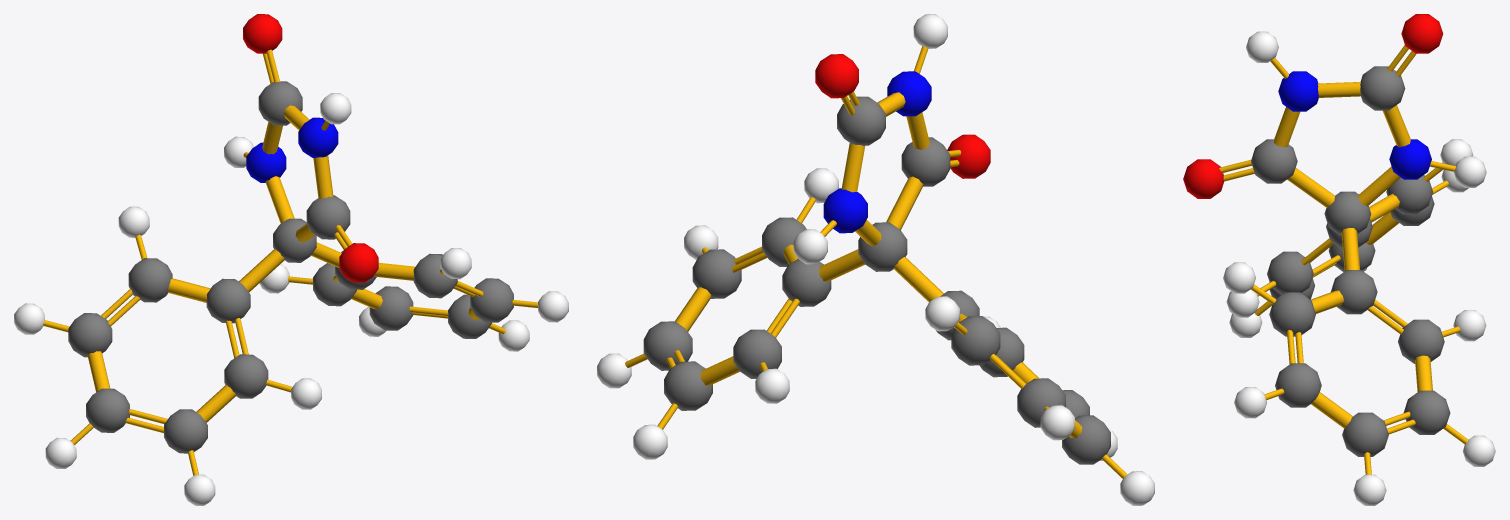
Rendered from phenytoin.glb.
The picture shows the model from 3 angles, left to right: view 1: azimuth 30°, elevation 25°; view 2: azimuth 150°, elevation 25°; view 3: azimuth 270°, elevation 25°; orthographic projection. The views are drawn at different scales.
Parts seen in each view (by area): view 1: node-geom58, node-geom54, node-geom50, node-geom52, node-geom46, node-geom56, node-geom57, node-geom48, node-geom55, node-geom49, node-geom45, node-geom53 (+21 smaller); view 2: node-geom52, node-geom57, node-geom49, node-geom55, node-geom51, node-geom59, node-geom48, node-geom47, node-geom58, node-geom45, node-geom42, node-geom56 (+22 smaller); view 3: node-geom49, node-geom57, node-geom59, node-geom53, node-geom55, node-geom48, node-geom51, node-geom50, node-geom47, node-geom45, node-geom44, node-geom42 (+27 smaller).
Boxes of the visible parts, x1,y1,x2,y2 form: node-geom58: (86, 388, 129, 432); node-geom54: (164, 409, 207, 453); node-geom50: (224, 354, 268, 398); node-geom52: (128, 258, 172, 302); node-geom46: (206, 278, 250, 323); node-geom56: (68, 313, 112, 357); node-geom57: (470, 278, 513, 322); node-geom48: (306, 195, 350, 239); node-geom55: (369, 286, 413, 330); node-geom49: (258, 81, 302, 125); node-geom45: (273, 218, 316, 262); node-geom53: (413, 253, 457, 298); node-geom52: (951, 316, 1000, 365); node-geom57: (692, 249, 741, 298); node-geom49: (837, 96, 885, 145); node-geom55: (664, 361, 712, 410); node-geom51: (733, 329, 781, 378); node-geom59: (643, 321, 692, 370); node-geom48: (901, 137, 950, 186); node-geom47: (782, 259, 831, 306); node-geom58: (1062, 415, 1110, 464); node-geom45: (858, 222, 907, 271); node-geom42: (815, 54, 858, 98); node-geom56: (1017, 378, 1065, 427); node-geom49: (1360, 66, 1405, 110); node-geom57: (1275, 363, 1321, 407); node-geom59: (1342, 412, 1388, 456); node-geom53: (1269, 292, 1315, 336); node-geom55: (1403, 390, 1450, 434); node-geom48: (1251, 139, 1297, 183); node-geom51: (1398, 319, 1444, 363); node-geom50: (1267, 251, 1313, 294); node-geom47: (1331, 270, 1377, 314); node-geom45: (1324, 191, 1371, 235); node-geom44: (1278, 71, 1318, 111); node-geom42: (1401, 14, 1443, 53).
Size of the model in its own units: 9.58 by 7.3 by 5.21.
